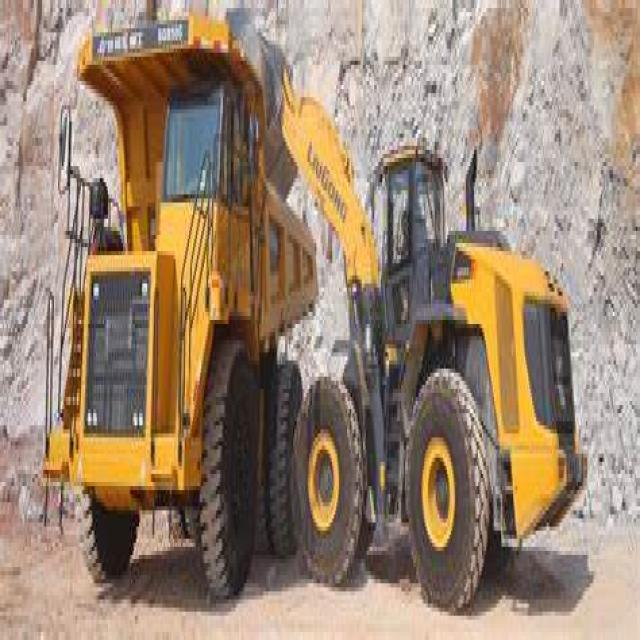buldozerpayloadergrader: (258, 12, 606, 636)
dump_truck: (39, 8, 311, 596)
